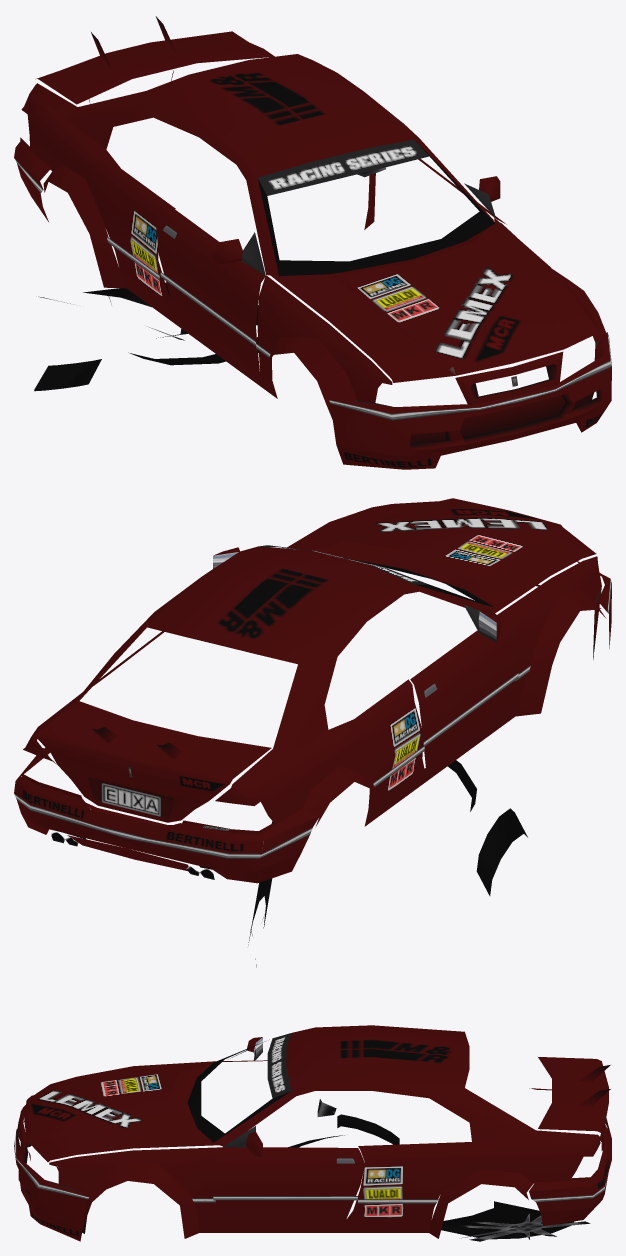
The model's file is car-CUPE_Car2.glb.
3 views of the same model, one above another, from view 1: azimuth 30°, elevation 25°; view 2: azimuth 150°, elevation 25°; view 3: azimuth 270°, elevation 25° (orthographic). The views are drawn at different scales.
Parts seen in each view (by area): view 1: CUPE_Car2; view 2: CUPE_Car2; view 3: CUPE_Car2.
Part boxes in pixels (x1,y1,x2,y2): CUPE_Car2: (14,16,611,469); CUPE_Car2: (14,498,611,967); CUPE_Car2: (14,1025,611,1241).
Size of the model in its own units: 2.58 by 1.88 by 4.61.
Materials: 10 (10 with a texture image).
